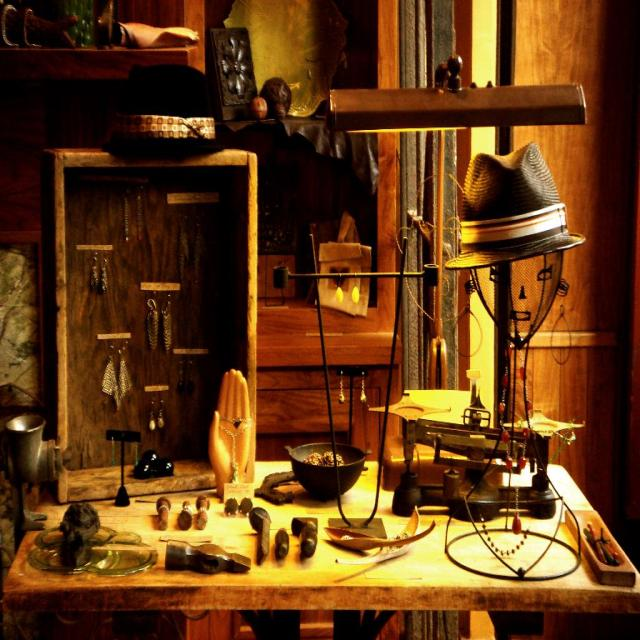desk: (0, 459, 639, 639)
